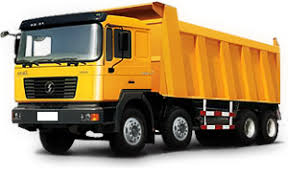truck: (5, 1, 284, 166)
